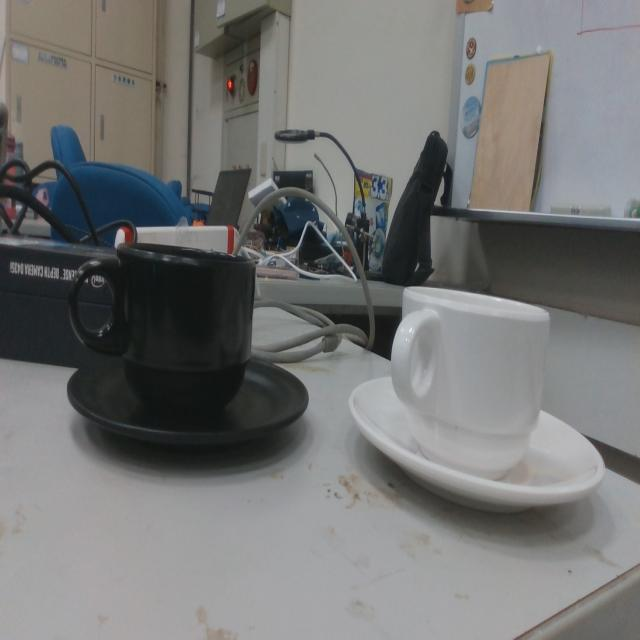black: (65, 236, 310, 463)
white: (348, 280, 606, 523)
